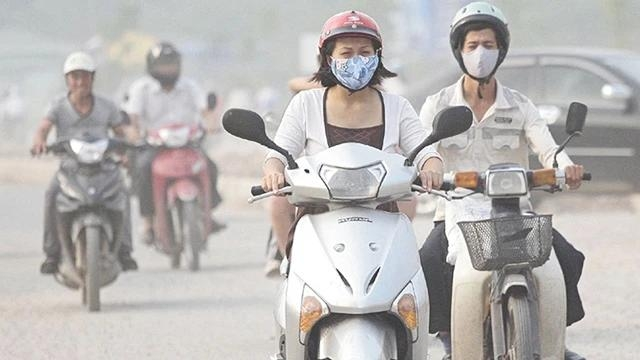car: (509, 44, 640, 180)
motorcycle: (276, 143, 432, 360), (444, 167, 570, 360), (49, 132, 132, 312), (144, 118, 218, 274)
